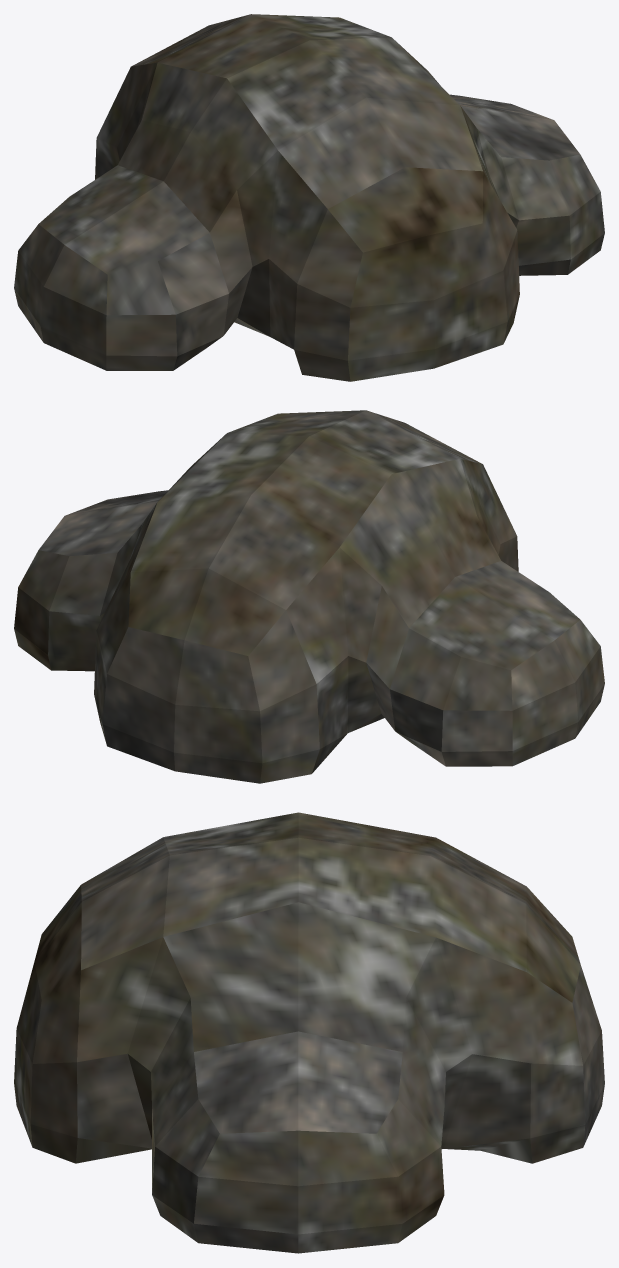
Rendered from rock2.fbx.
3 views of the same model, one above another, from view 1: azimuth 30°, elevation 25°; view 2: azimuth 150°, elevation 25°; view 3: azimuth 270°, elevation 25° (orthographic). The views are drawn at different scales.
Parts seen in each view (by area): view 1: Cube; view 2: Cube; view 3: Cube.
Part boxes in pixels (bbox=[...]): Cube: bbox=[14, 14, 604, 381]; Cube: bbox=[14, 410, 604, 783]; Cube: bbox=[14, 812, 604, 1253].
Size of the model in its own units: 449 by 192 by 377.
